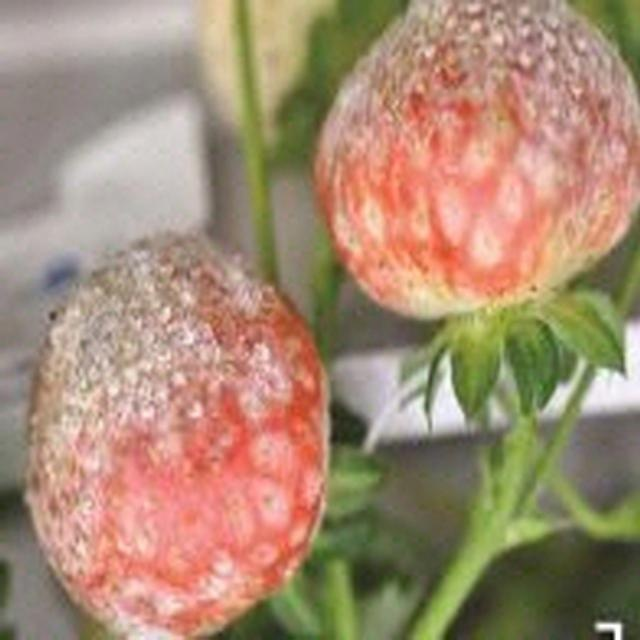Powdery Mildew Fruit: (19, 232, 332, 640), (310, 2, 638, 321)
